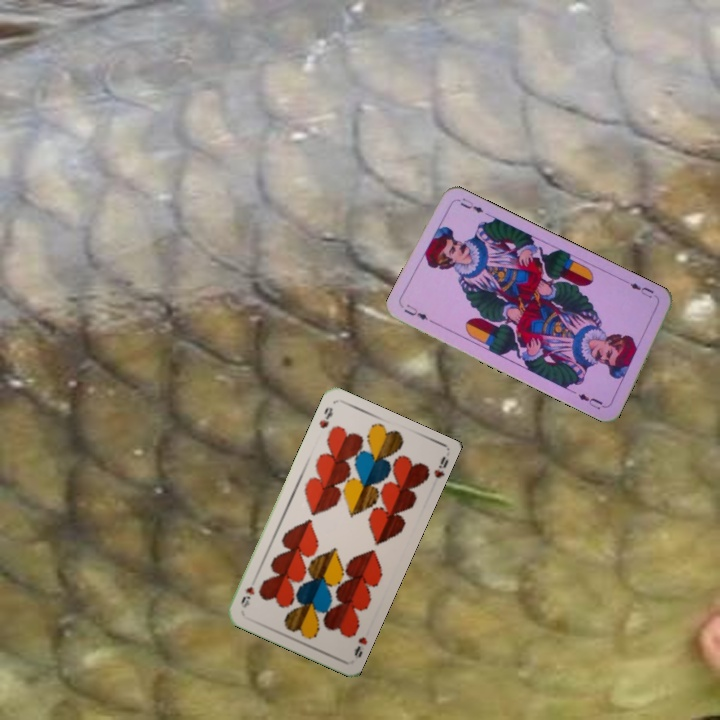EU: (626, 279, 660, 301), (400, 300, 430, 323)
H9: (315, 403, 335, 431), (350, 633, 370, 660)
